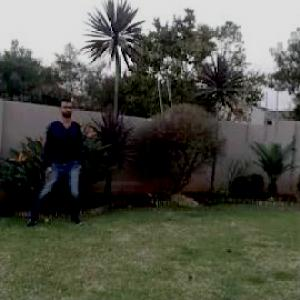follow: (46, 94, 84, 225)
